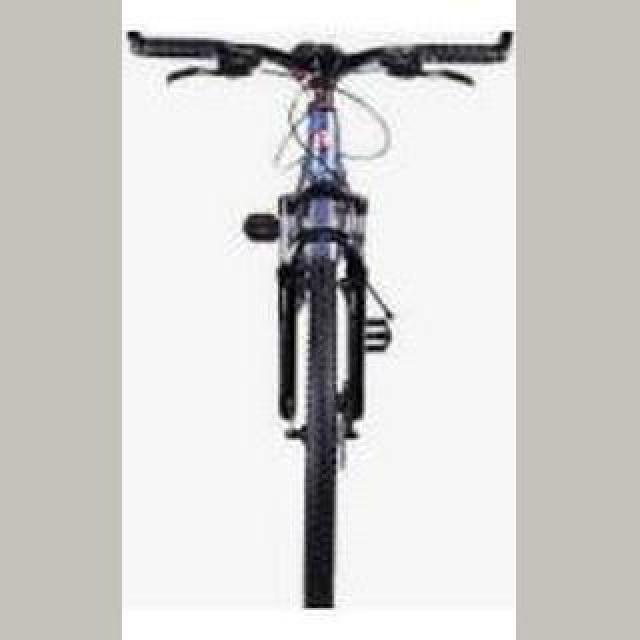Person: (131, 23, 513, 605)
